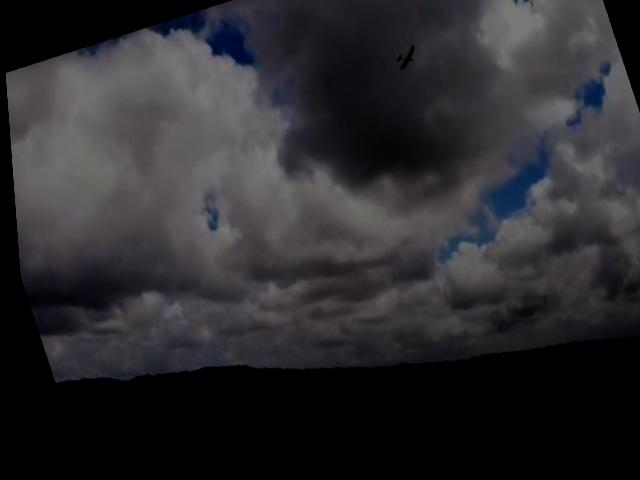iha: (391, 49, 419, 77)
